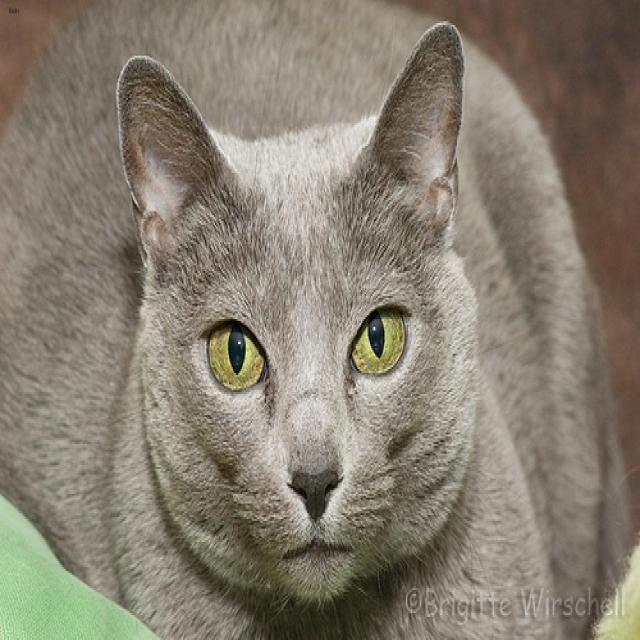Russian_Blue: (115, 19, 461, 598)
